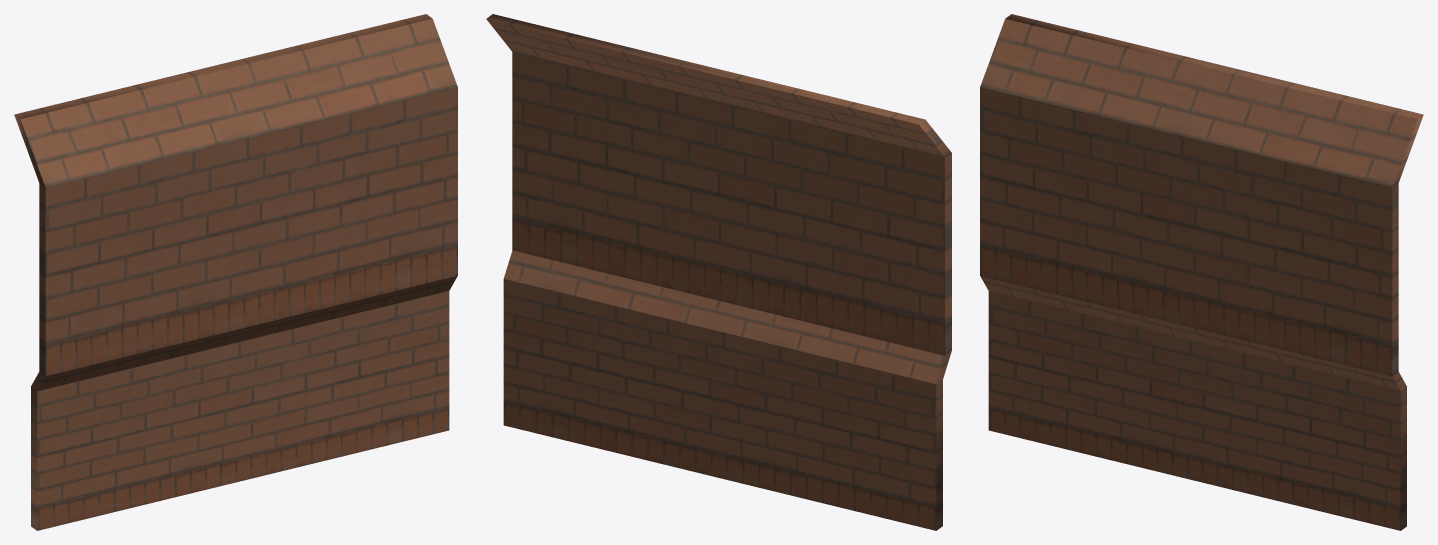
File: ExteriorWall.glb
3 views of the same model, side by side, from view 1: azimuth 30°, elevation 25°; view 2: azimuth 150°, elevation 25°; view 3: azimuth 330°, elevation 25° (orthographic). The views are drawn at different scales.
Visible parts, largest first — view 1: ExteriorWall; view 2: ExteriorWall; view 3: ExteriorWall.
Boxes of the visible parts, <box> form: ExteriorWall: <box>14,14,457,530</box>; ExteriorWall: <box>486,14,951,530</box>; ExteriorWall: <box>980,14,1423,530</box>.
Size of the model in its own units: 6.32 by 5.86 by 0.8361.
1 material, 1 textured.
